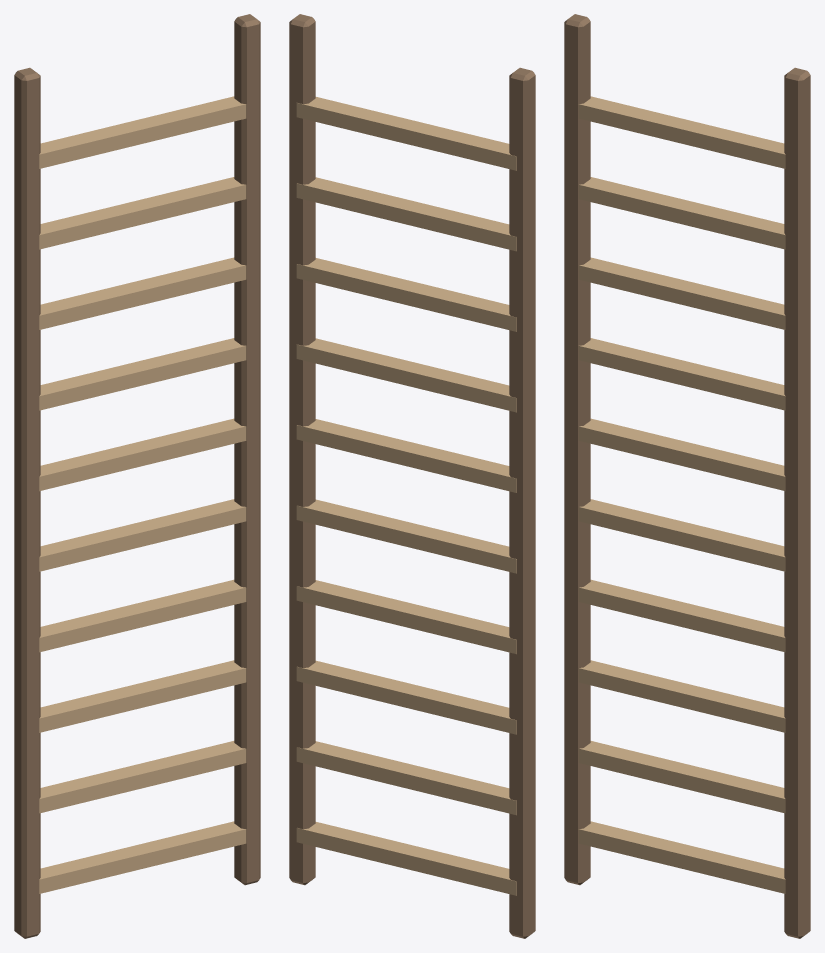
The model's file is feudal-japan-castle-town-wood-ladder-85ee7a8e__26515.glb.
3 renders of one model, left to right at view 1: azimuth 30°, elevation 25°; view 2: azimuth 150°, elevation 25°; view 3: azimuth 330°, elevation 25°, orthographic.
Visible parts, largest first — view 1: wood-ladder; view 2: wood-ladder; view 3: wood-ladder.
Boxes of the visible parts, x1,y1,x2,y2 form: wood-ladder: (14,14,260,938); wood-ladder: (289,14,535,938); wood-ladder: (564,14,810,938).
Bounding box in the file's own units: 0.8699 × 3 × 0.0712.
